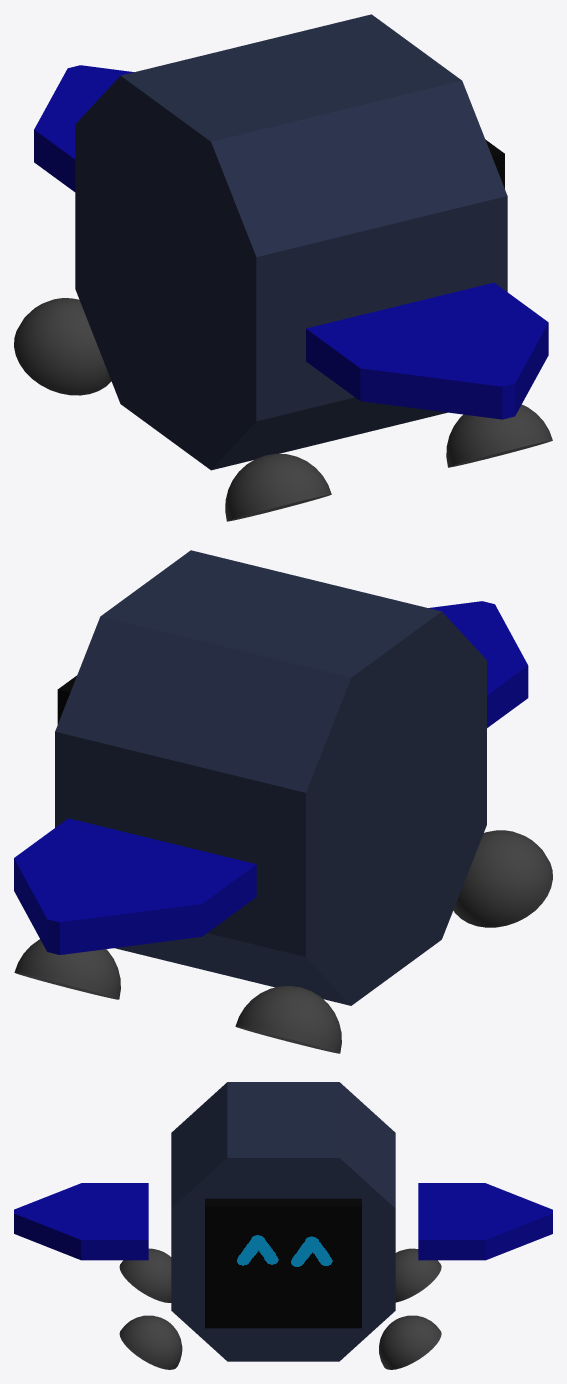
The model's file is player.glb.
3 renders of one model, top to bottom at view 1: azimuth 30°, elevation 25°; view 2: azimuth 150°, elevation 25°; view 3: azimuth 270°, elevation 25°, orthographic. The views are drawn at different scales.
Visible parts, largest first — view 1: Cube, Cube.002, Sphere.003, Cube.001, Sphere, Sphere.001; view 2: Cube, Cube.001, Sphere, Cube.002, Sphere.003, Sphere.002; view 3: Cube, Cube.003, Cube.001, Cube.002, Sphere.001, Sphere.002, Sphere, Sphere.003.
Boxes of the visible parts, left/top/right/bottom form: Cube: left=75, top=14, right=507, bottom=470; Cube.002: left=306, top=282, right=548, bottom=419; Sphere.003: left=14, top=298, right=111, bottom=395; Cube.001: left=34, top=65, right=133, bottom=191; Sphere: left=225, top=453, right=331, bottom=521; Sphere.001: left=446, top=404, right=552, bottom=467; Cube: left=55, top=550, right=486, bottom=1005; Cube.001: left=14, top=818, right=256, bottom=954; Sphere: left=453, top=830, right=552, bottom=927; Cube.002: left=428, top=601, right=528, bottom=727; Sphere.003: left=235, top=986, right=341, bottom=1053; Sphere.002: left=14, top=939, right=120, bottom=999; Cube: left=171, top=1082, right=395, bottom=1361; Cube.003: left=205, top=1198, right=361, bottom=1328; Cube.001: left=418, top=1183, right=552, bottom=1260; Cube.002: left=14, top=1183, right=148, bottom=1260; Sphere.001: left=119, top=1315, right=182, bottom=1369; Sphere.002: left=379, top=1315, right=441, bottom=1369; Sphere: left=119, top=1248, right=171, bottom=1302; Sphere.003: left=395, top=1248, right=441, bottom=1302.
Size of the model in its own units: 2.03 by 2.1 by 4.8.
4 materials, 1 textured.
